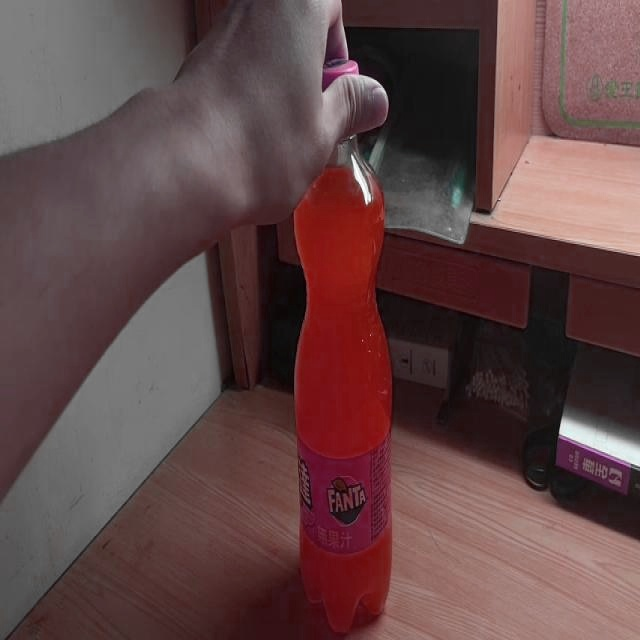Fanta: (292, 58, 393, 640)
